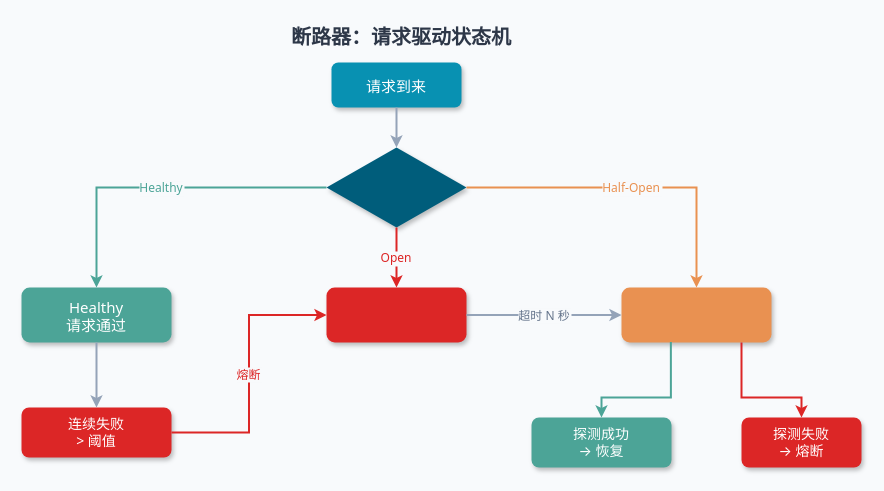
This 884x491 diagram has some shape labels left out. Each missing label, with the centre of its shape:
"Half-Open 放行探测" belongs at [697,316].
"Open 拒绝跳过" belongs at [397,316].
"当前状态?" belongs at [397,188].
